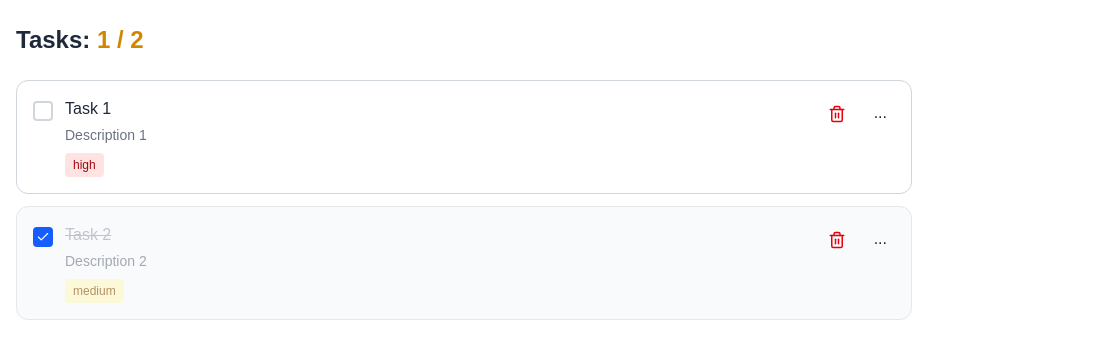
TasksSection › Task Toggle › should toggle task completion to completed
Expected: the heading "Task 1" is shown, [65, 100, 111, 117]
Click the button named "Toggle task completion" next to "Task 1". click: (43, 111)
box: [33, 101, 53, 121]
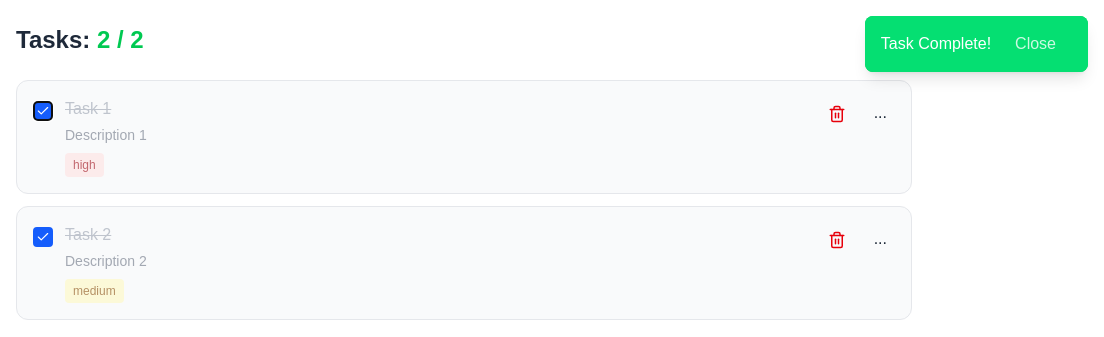
Expected: the text "Task Complete!" is shown, [881, 35, 991, 52]
